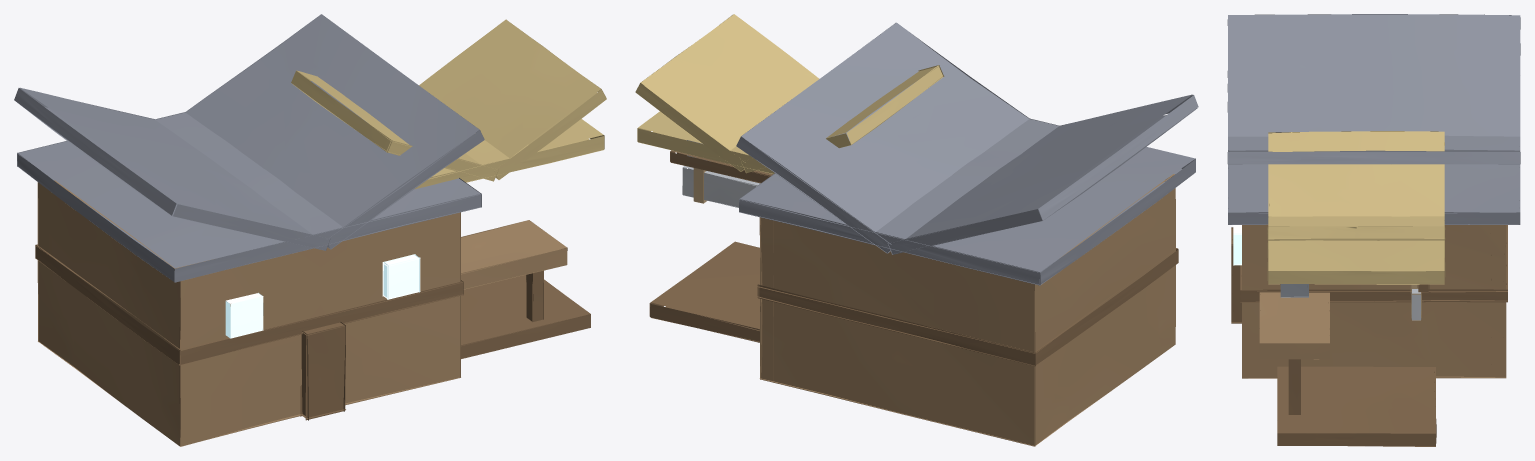
The model's file is toolsmith.glb.
3 renders of one model, left to right at view 1: azimuth 30°, elevation 25°; view 2: azimuth 150°, elevation 25°; view 3: azimuth 270°, elevation 25°, orthographic. The views are drawn at different scales.
Parts seen in each view (by area): view 1: ToolsmithWall; view 2: ToolsmithWall; view 3: ToolsmithWall.
Part boxes in pixels (x1=…): ToolsmithWall: x1=14, y1=14, x2=606, y2=446; ToolsmithWall: x1=635, y1=14, x2=1198, y2=446; ToolsmithWall: x1=1227, y1=14, x2=1520, y2=446.
Size of the model in its own units: 2.77 by 1.47 by 1.67.
